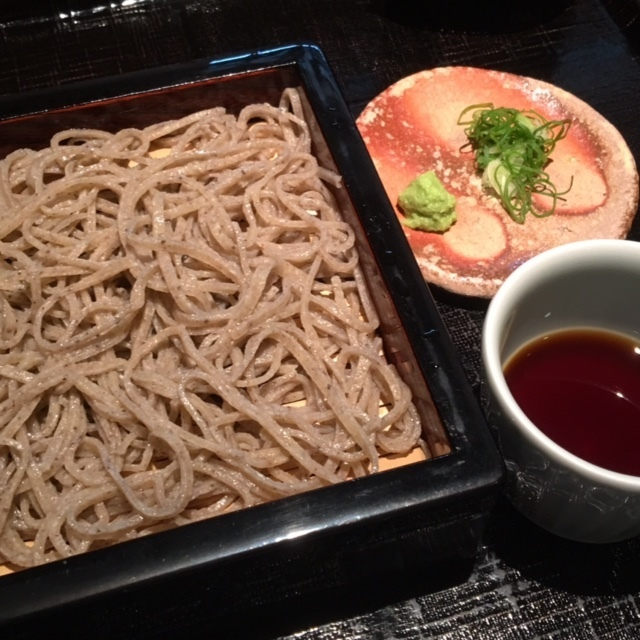Soba: (5, 108, 416, 548)
